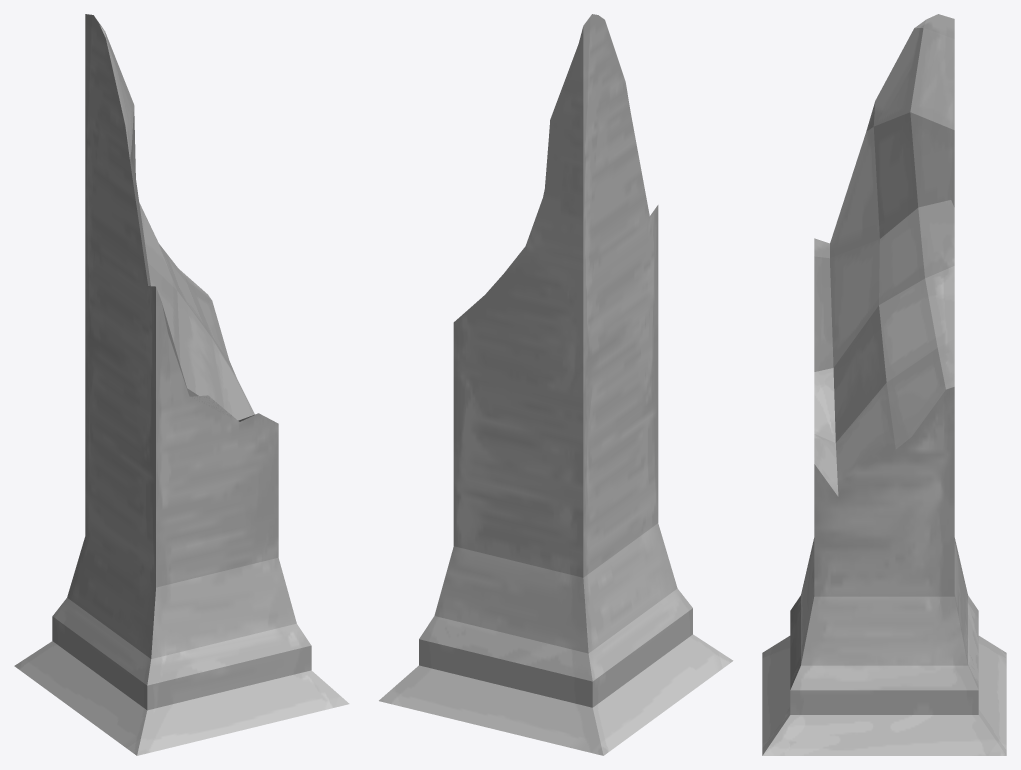
The model's file is kirik_sutun.fbx.
3 renders of one model, left to right at view 1: azimuth 30°, elevation 25°; view 2: azimuth 150°, elevation 25°; view 3: azimuth 270°, elevation 25°, orthographic. The views are drawn at different scales.
Visible parts, largest first — view 1: yarim_sutun; view 2: yarim_sutun; view 3: yarim_sutun.
Boxes of the visible parts, box(x1,y1,x2,y2) form: yarim_sutun: box(14, 14, 349, 755); yarim_sutun: box(379, 14, 733, 755); yarim_sutun: box(762, 14, 1006, 755).
Size of the model in its own units: 3.22 by 9.61 by 3.22.
Materials: 1 (1 with a texture image).
